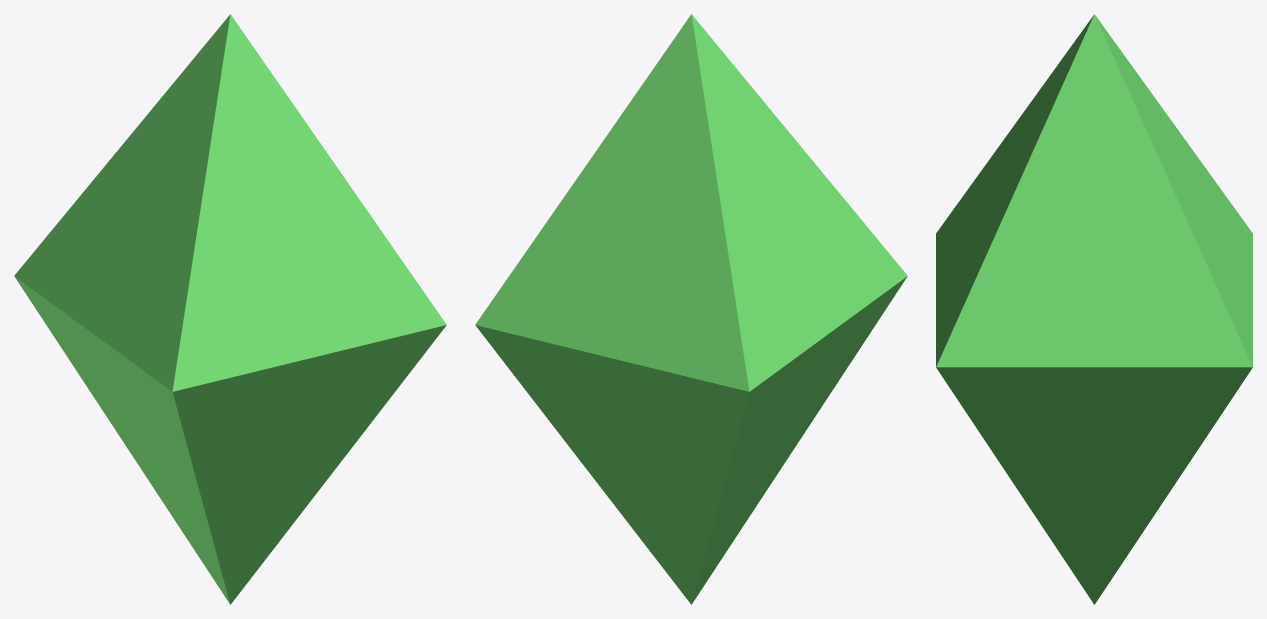
File: Gem.fbx
The picture shows the model from 3 angles, left to right: view 1: azimuth 30°, elevation 25°; view 2: azimuth 150°, elevation 25°; view 3: azimuth 270°, elevation 25°; orthographic projection.
Visible parts, largest first — view 1: Gem; view 2: Gem; view 3: Gem.
Boxes of the visible parts, left/top/right/bottom form: Gem: left=14, top=14, right=446, bottom=604; Gem: left=475, top=14, right=907, bottom=604; Gem: left=936, top=14, right=1252, bottom=604.
Size of the model in its own units: 59.32 by 122 by 59.32.
